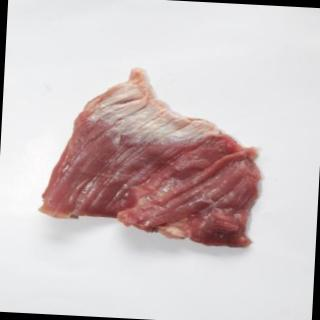Daging Sapi: (37, 64, 270, 253)
